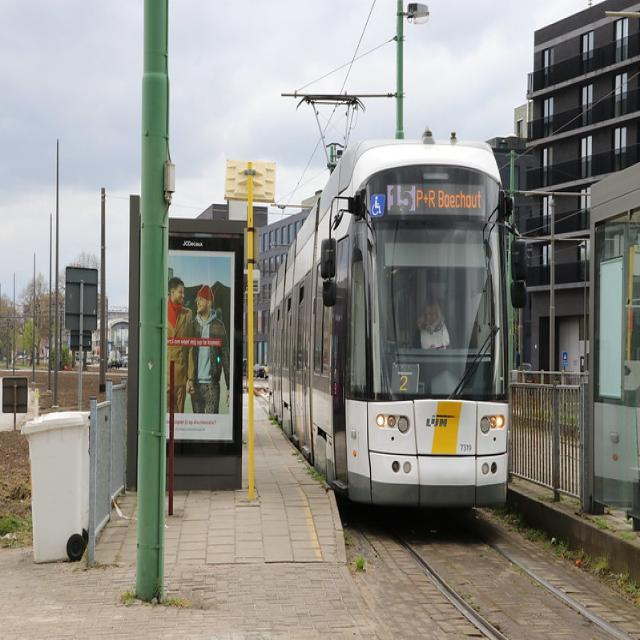bus-number: (387, 184, 416, 213)
